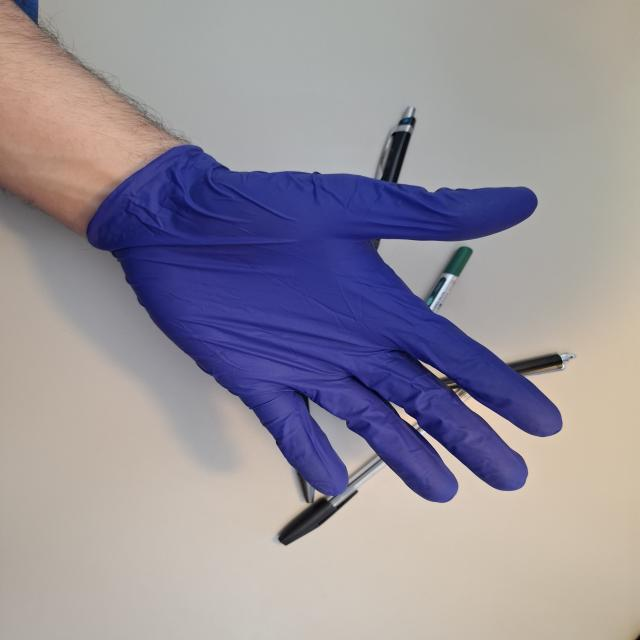glove_on: (78, 141, 568, 505)
